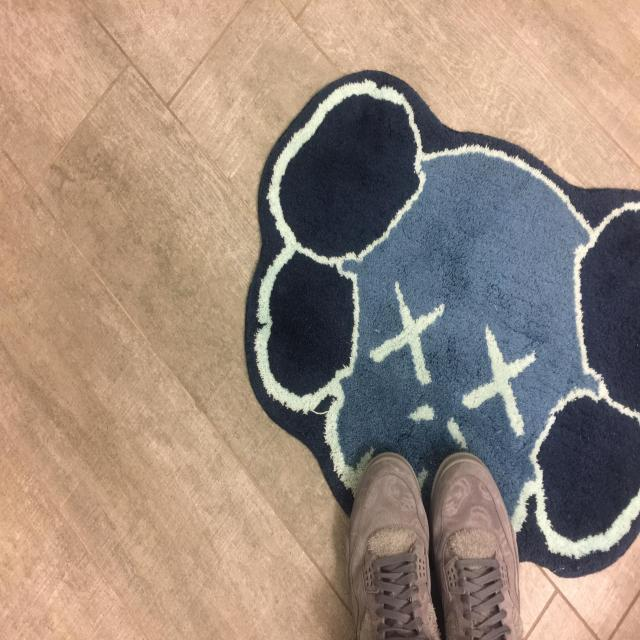shoe: (337, 444, 436, 640), (429, 448, 530, 640)
